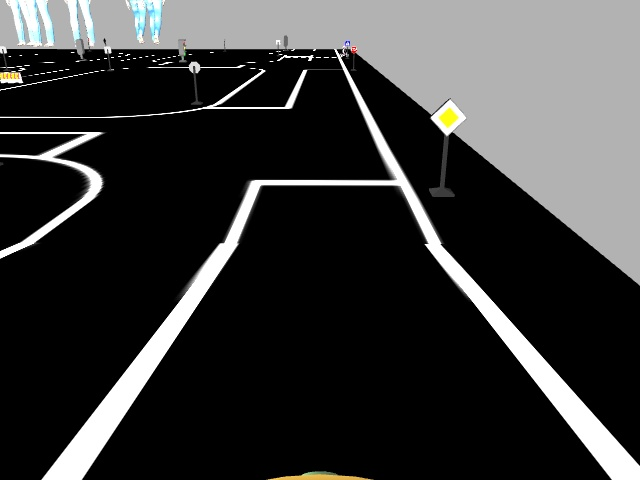Priority: (426, 95, 467, 136)
